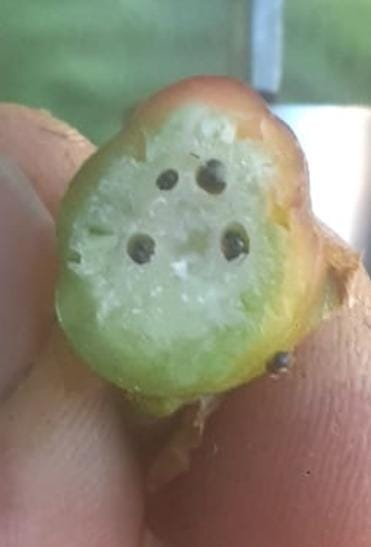galarisi: (46, 61, 335, 394)
